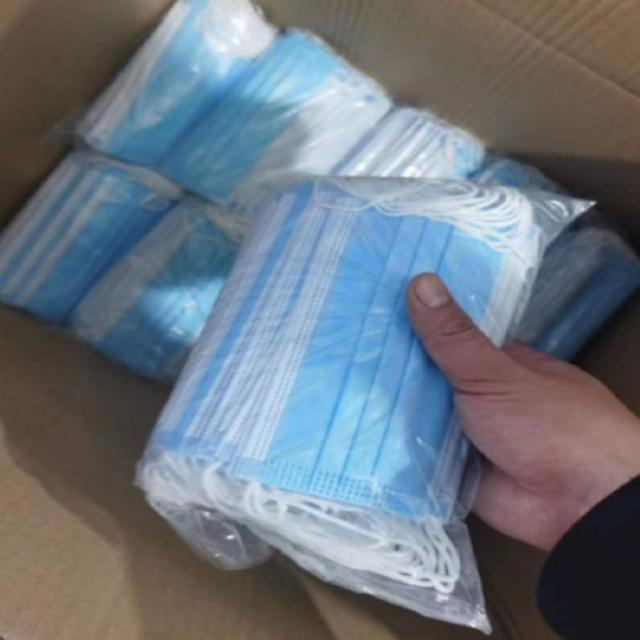non-organic waste: (156, 166, 518, 574)
